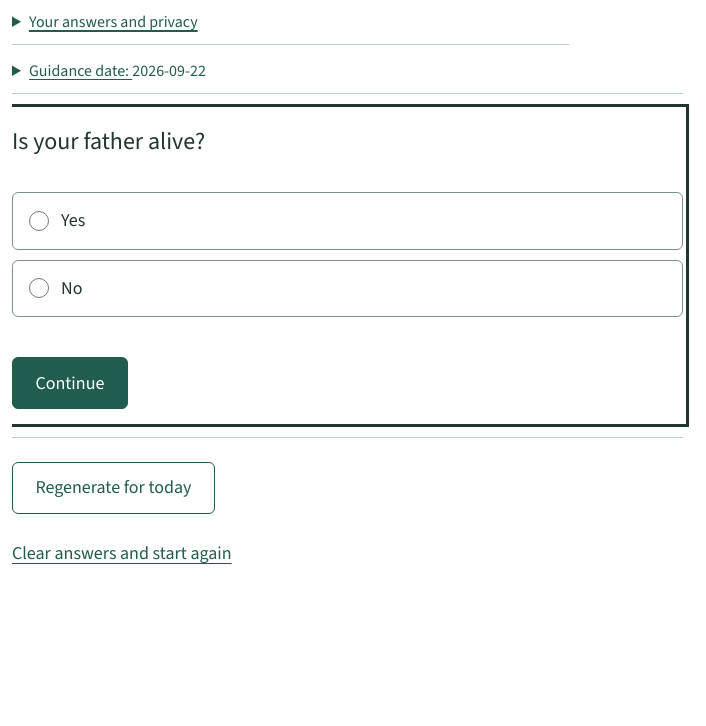
Test: hydration, native fields and semantic progression › discloses en privacy and the date form only on expansion, showing the canonical date
The image size is (706, 726).
Check: the heading "Is your father alive?" is shown, box [12,125,205,157]
Click the heading "Your answers and privacy". click: [113, 22]
box: [29,11,198,32]
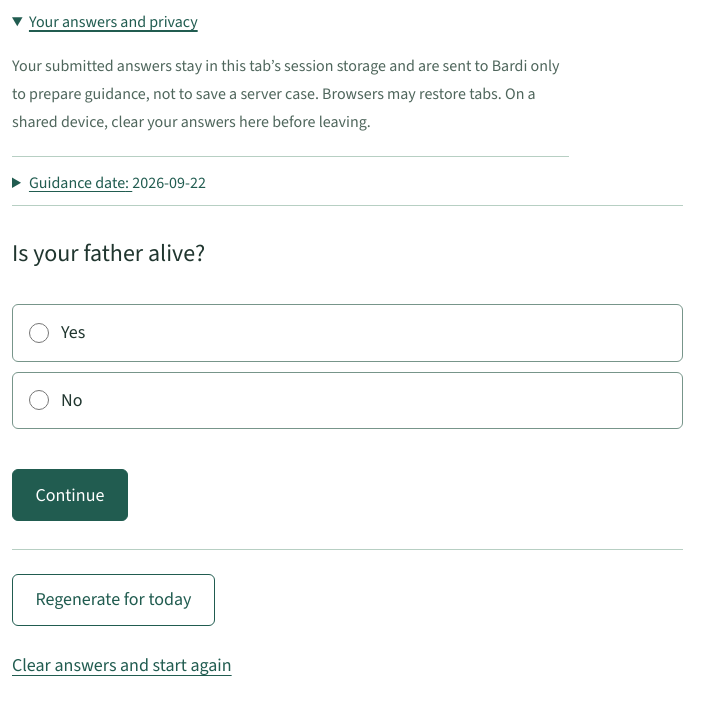
Check: the text "Your answers and privacy" shows "Browsers may restore tabs.", box [12,55,560,132]
Click the heading "Guidance date: 2026-09-22". click: [117, 182]
box: [29,172,206,193]
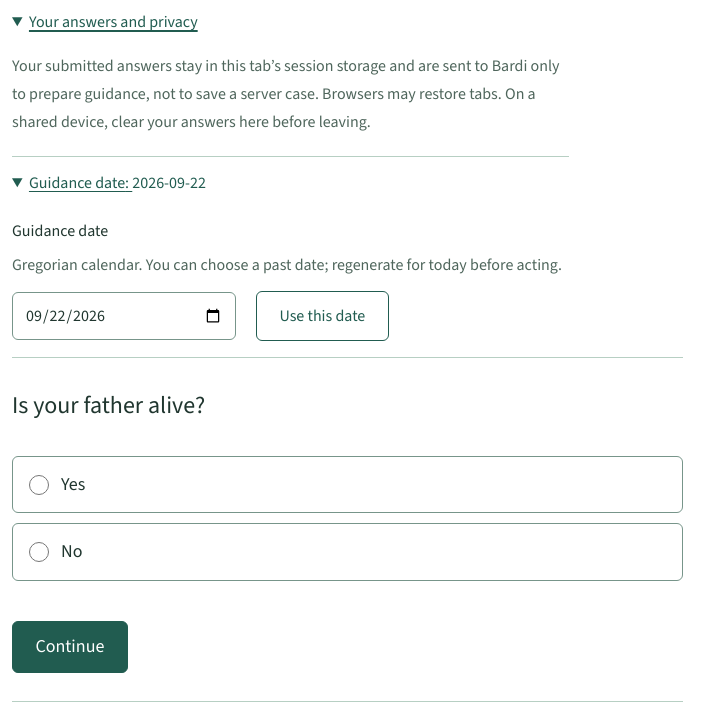
Check: the text "Guidance date:" has attribute open, box [12,161,683,358]
Type "2024-02-29" into the date field labelled "Guidance date". click: [124, 316]
box: [12,292,236,340]
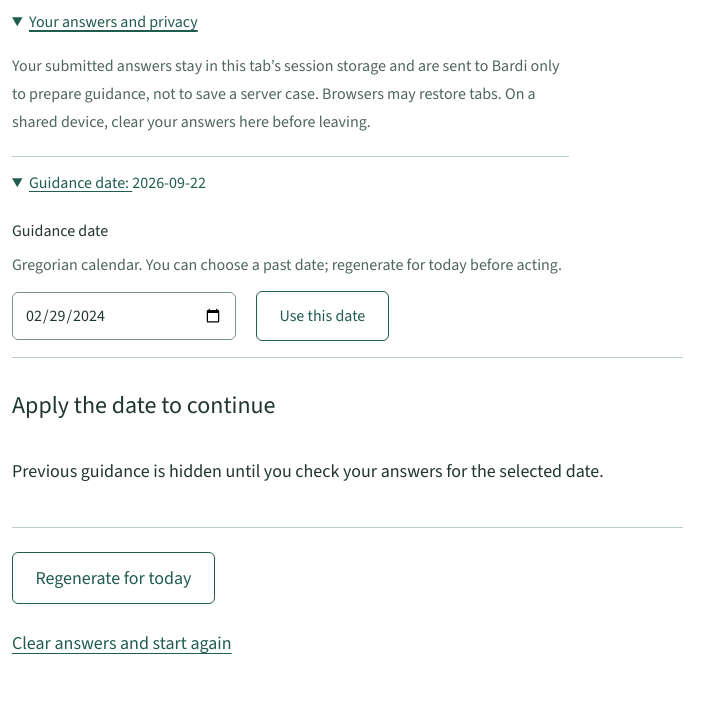
Click the button "Use this date". click: [322, 316]
box: [256,291,389,341]
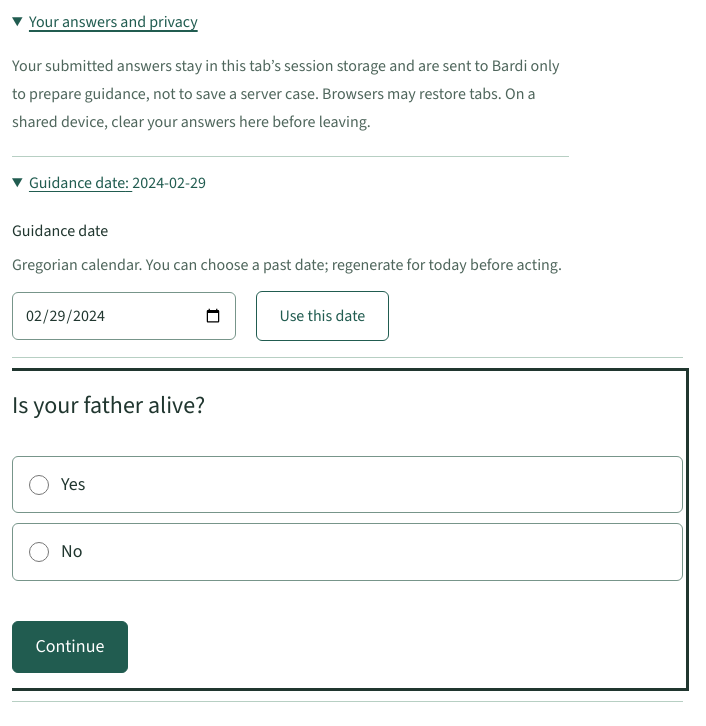
Check: the heading "Guidance date: 2024-02-29" is shown, box [29,172,206,193]
